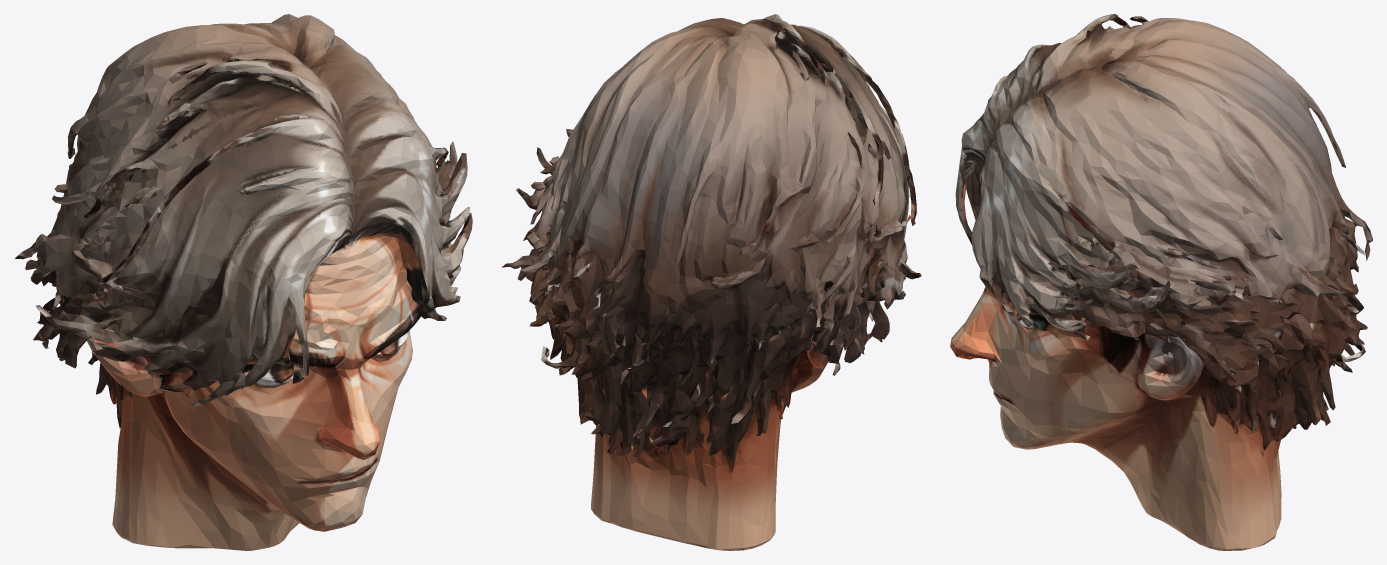
File: side_ff_fisherman_repaired_atlas.glb
The picture shows the model from 3 angles, left to right: view 1: azimuth 30°, elevation 25°; view 2: azimuth 150°, elevation 25°; view 3: azimuth 270°, elevation 25°; orthographic projection. The views are drawn at different scales.
Parts seen in each view (by area): view 1: temp_mesh.ply; view 2: temp_mesh.ply; view 3: temp_mesh.ply.
Part boxes in pixels (box(x1,y1,x2,y2)): temp_mesh.ply: box(15, 14, 472, 550); temp_mesh.ply: box(502, 14, 921, 550); temp_mesh.ply: box(950, 14, 1372, 550).
Bounding box in the file's own units: 1.02 × 1.22 × 0.9932.
Materials: 1 (1 with a texture image).
